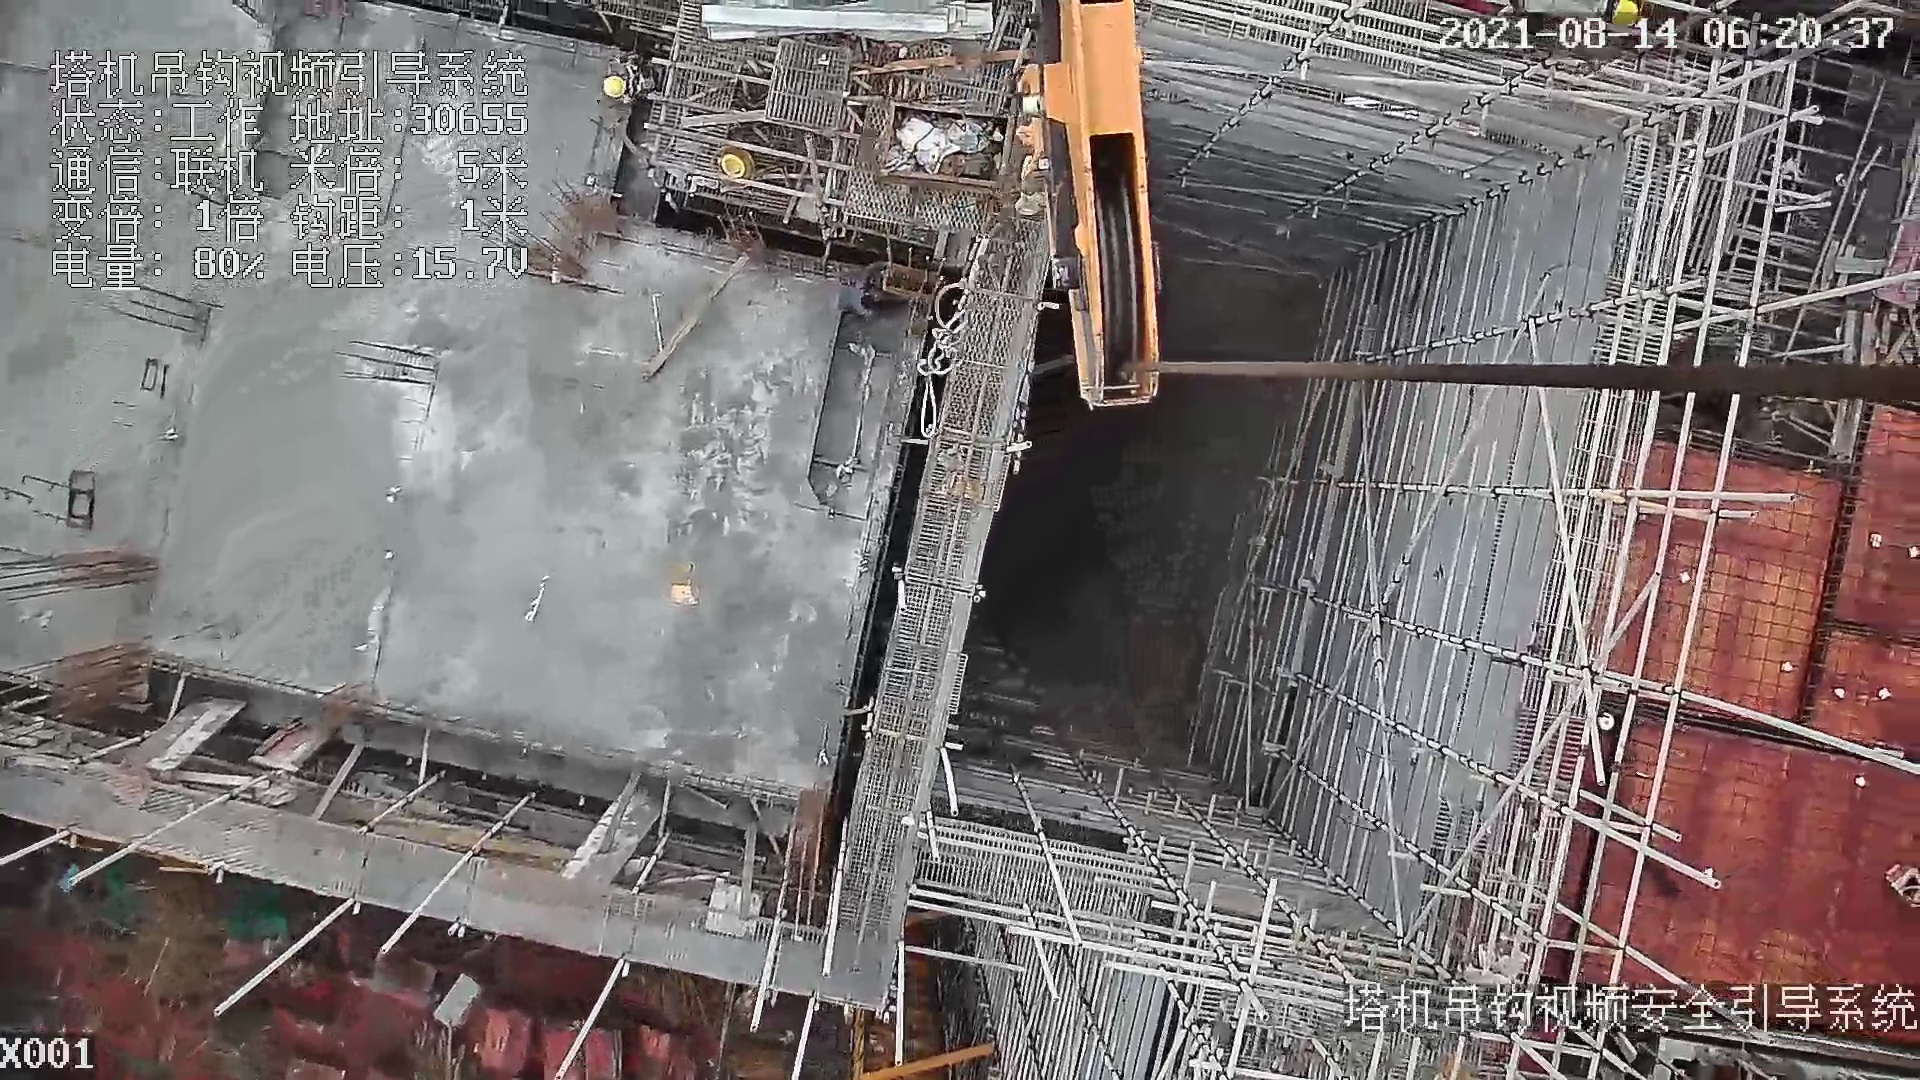helmet: (603, 76, 626, 102)
hook: (981, 1, 1168, 414)
